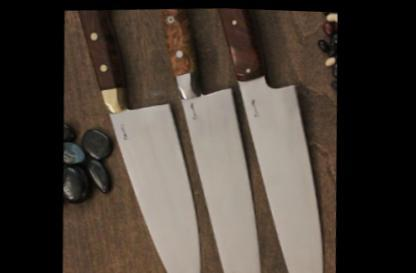knife: (229, 87, 338, 271), (170, 97, 281, 271), (99, 112, 216, 271)
